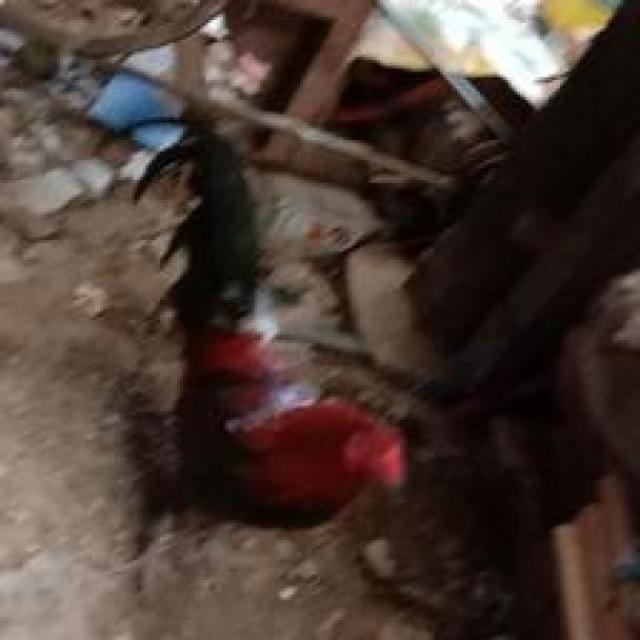Chicken: (133, 96, 430, 574)
